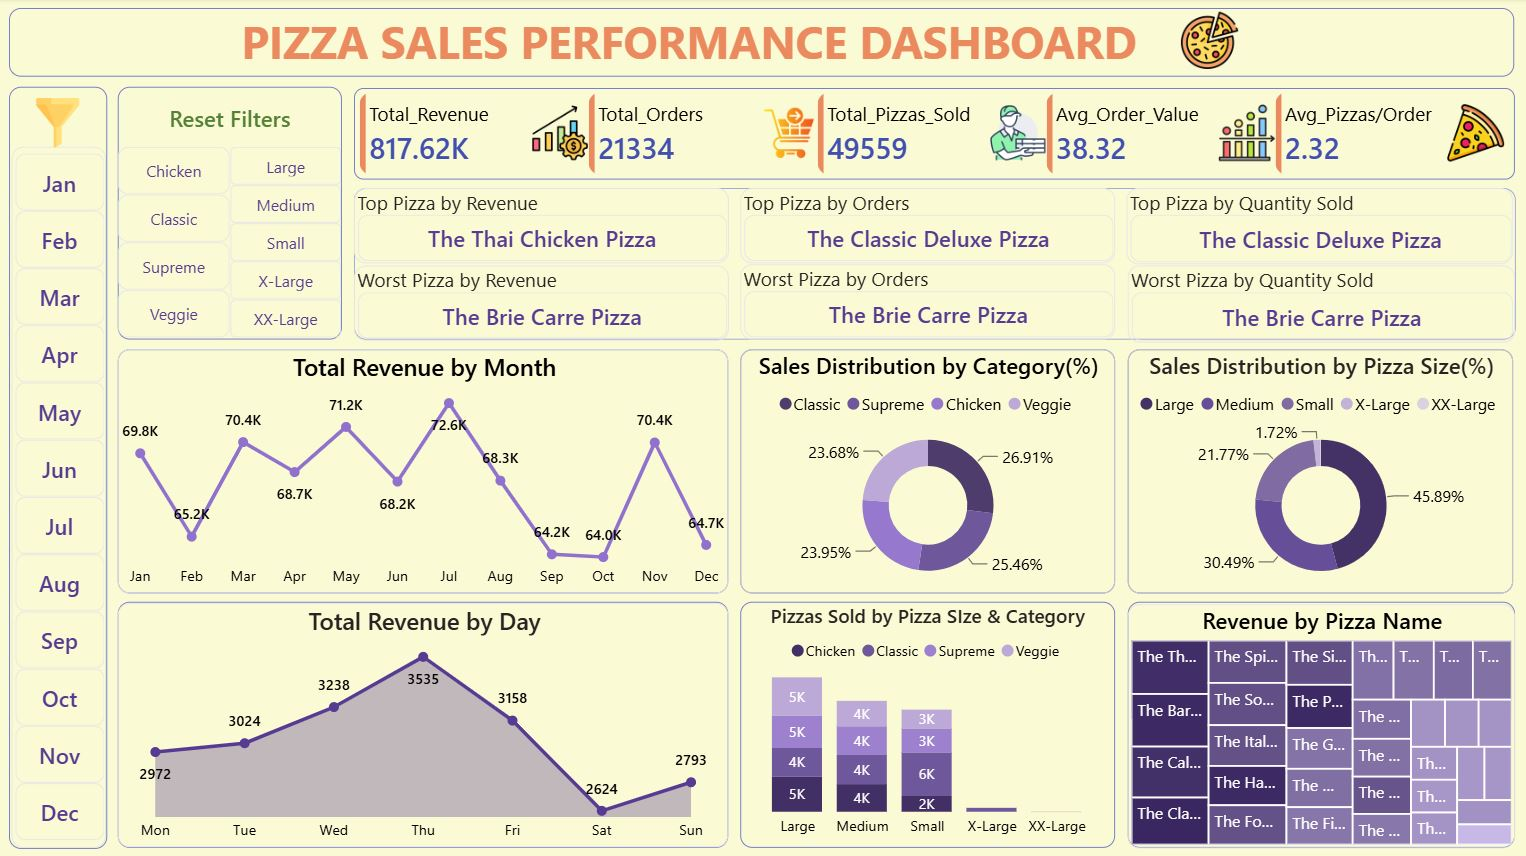

The dashboard page shown, as its layout file describes it:
{"tool":"powerbi","page":{"name":"DashBoard","canvas":[1280,720],"ordinal":0},"visuals":[{"type":"shape","box":[8.4,74.3,82.7,638.8],"z":0},{"type":"shape","box":[8.4,8.4,1262,57.5],"z":1000},{"type":"shape","box":[99.5,74.3,188.2,212.1],"z":2000},{"type":"shape","box":[297.2,159.4,974.4,127],"z":3000},{"type":"shape","box":[621.8,294.3,314.5,204.9],"z":6000},{"type":"shape","box":[621.8,506.4,314.5,206.3],"z":7000},{"type":"shape","box":[946.8,294.8,323.6,204.9],"z":8000},{"type":"shape","box":[946.5,506.4,324.6,206.3],"z":9000},{"type":"shape","box":[99.6,294.3,512,204.9],"z":10000},{"type":"shape","box":[99.6,506.4,512,206.3],"z":11000},{"type":"cardVisual","fields":{"Data":["PIZZA SALES.Total_Sales","PIZZA SALES.Total_Orders","PIZZA SALES.Total_Pizzas_Sold","PIZZA SALES.Average_Pizza_Value","PIZZA SALES.Average_Pizzas_Per_Order"]},"box":[297.2,75,973.9,76.5],"z":12000},{"type":"lineChart","title":"Total Revenue by Month","fields":{"Category":["PIZZA SALES.Month Name"],"Y":["PIZZA SALES.Total_Revenue"]},"box":[99.6,294.3,512.2,204.9],"z":12001},{"type":"lineChart","title":"Total Revenue by Month","fields":{"Y":["PIZZA SALES.Total_Orders"],"Category":["PIZZA SALES.Day Name"]},"box":[99.6,507.9,512.2,204.9],"z":12002},{"type":"donutChart","title":"Sales Distribution by Category(%)","fields":{"Category":["PIZZA SALES.pizza_category"],"Y":["PIZZA SALES.Total_Revenue"]},"box":[621.8,294.3,314.5,204.9],"z":12003},{"type":"donutChart","title":"Sales Distribution by Pizza Size(%)","fields":{"Y":["PIZZA SALES.Total_Revenue"],"Category":["PIZZA SALES.Pizza_SIze"]},"box":[946.8,294.8,323.6,204.9],"z":12004},{"type":"columnChart","title":"Pizzas Sold by Pizza SIze & Category","fields":{"Category":["PIZZA SALES.Pizza_SIze"],"Y":["PIZZA SALES.Total_Pizzas_Sold"],"Series":["PIZZA SALES.pizza_category"]},"box":[621.8,506.4,314.5,206.3],"z":12005},{"type":"treemap","title":"Revenue by Pizza Name","fields":{"Group":["PIZZA SALES.pizza_name"],"Values":["PIZZA SALES.Total_Revenue"]},"box":[946.8,508.2,324.8,204.9],"z":12006},{"type":"advancedSlicerVisual","fields":{"Values":["PIZZA SALES.Month Name"]},"box":[10.3,125.2,79.3,588.1],"z":12007},{"type":"advancedSlicerVisual","title":"Top Pizza by Revenue","fields":{"Values":["PIZZA SALES.pizza_name"]},"box":[297.2,159.4,314,63.5],"z":12008},{"type":"advancedSlicerVisual","title":"Worst Pizza by Revenue","fields":{"Values":["PIZZA SALES.pizza_name"]},"box":[297.2,224.1,314,63.5],"z":12009},{"type":"advancedSlicerVisual","title":"Top Pizza by Orders","fields":{"Values":["PIZZA SALES.pizza_name"]},"box":[622,159.4,314,63.5],"z":12010},{"type":"advancedSlicerVisual","title":"Worst Pizza by Orders","fields":{"Values":["PIZZA SALES.pizza_name"]},"box":[622,222.9,314,63.5],"z":12011},{"type":"advancedSlicerVisual","title":"Top Pizza by Quantity Sold","fields":{"Values":["PIZZA SALES.pizza_name"]},"box":[945.8,159.3,324.3,64],"z":12012},{"type":"advancedSlicerVisual","title":"Worst Pizza by Quantity Sold","fields":{"Values":["PIZZA SALES.pizza_name"]},"box":[946.8,224.1,324.8,64.7],"z":12013},{"type":"advancedSlicerVisual","fields":{"Values":["PIZZA SALES.pizza_category"]},"box":[99.9,125.2,94.2,160.8],"z":12014},{"type":"advancedSlicerVisual","fields":{"Values":["PIZZA SALES.Pizza_SIze"]},"box":[194.2,124.6,93.5,161.8],"z":12015},{"type":"actionButton","box":[99.5,75.5,188.2,50.3],"z":12016},{"type":"textbox","box":[194.1,8,768.5,57.4],"z":12017},{"type":"image","box":[973.2,12,85.1,47.9],"z":12018},{"type":"image","box":[8,83.9,81.6,41.4],"z":12019}]}

Visuals, with their boxes in screenshot pixels (x1, y1, x2, y2), scaled from the page's 1280x720 canvas onto the 1526x856 screenshot:
shape: Rect(10, 88, 109, 848)
shape: Rect(10, 10, 1515, 78)
shape: Rect(119, 88, 343, 340)
shape: Rect(354, 190, 1516, 340)
shape: Rect(741, 350, 1116, 593)
shape: Rect(741, 602, 1116, 847)
shape: Rect(1129, 350, 1515, 594)
shape: Rect(1128, 602, 1515, 847)
shape: Rect(119, 350, 729, 593)
shape: Rect(119, 602, 729, 847)
cardVisual - PIZZA SALES.Total_Sales x PIZZA SALES.Total_Orders: Rect(354, 89, 1515, 180)
"Total Revenue by Month" lineChart: Rect(119, 350, 729, 593)
"Total Revenue by Month" lineChart: Rect(119, 604, 729, 847)
"Sales Distribution by Category(%)" donutChart: Rect(741, 350, 1116, 593)
"Sales Distribution by Pizza Size(%)" donutChart: Rect(1129, 350, 1515, 594)
"Pizzas Sold by Pizza SIze & Category" columnChart: Rect(741, 602, 1116, 847)
"Revenue by Pizza Name" treemap: Rect(1129, 604, 1516, 848)
advancedSlicerVisual - PIZZA SALES.Month Name: Rect(12, 149, 107, 848)
"Top Pizza by Revenue" advancedSlicerVisual: Rect(354, 190, 729, 265)
"Worst Pizza by Revenue" advancedSlicerVisual: Rect(354, 266, 729, 342)
"Top Pizza by Orders" advancedSlicerVisual: Rect(742, 190, 1116, 265)
"Worst Pizza by Orders" advancedSlicerVisual: Rect(742, 265, 1116, 340)
"Top Pizza by Quantity Sold" advancedSlicerVisual: Rect(1128, 189, 1514, 265)
"Worst Pizza by Quantity Sold" advancedSlicerVisual: Rect(1129, 266, 1516, 343)
advancedSlicerVisual - PIZZA SALES.pizza_category: Rect(119, 149, 231, 340)
advancedSlicerVisual - PIZZA SALES.Pizza_SIze: Rect(232, 148, 343, 340)
actionButton: Rect(119, 90, 343, 150)
textbox: Rect(231, 10, 1148, 78)
image: Rect(1160, 14, 1262, 71)
image: Rect(10, 100, 107, 149)
